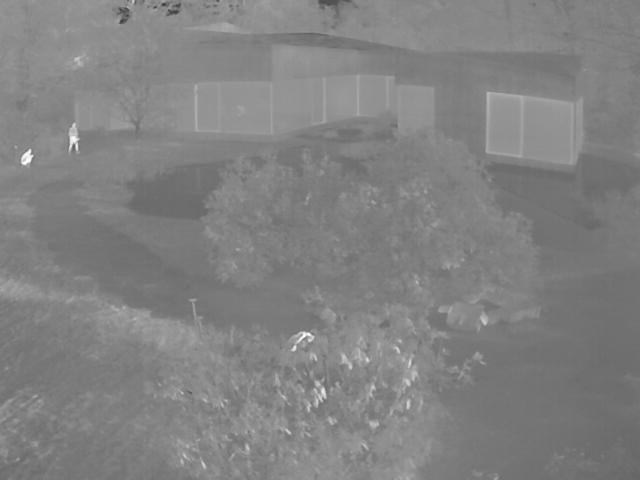person: (69, 123, 81, 152)
